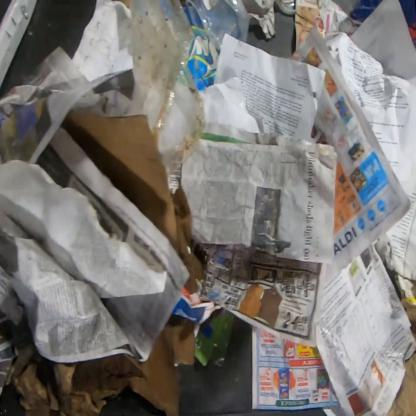cardboard: (59, 110, 205, 293), (11, 312, 195, 415), (385, 347, 415, 415)
rigid_plastic: (130, 0, 207, 181), (182, 0, 251, 92), (274, 0, 297, 16)
